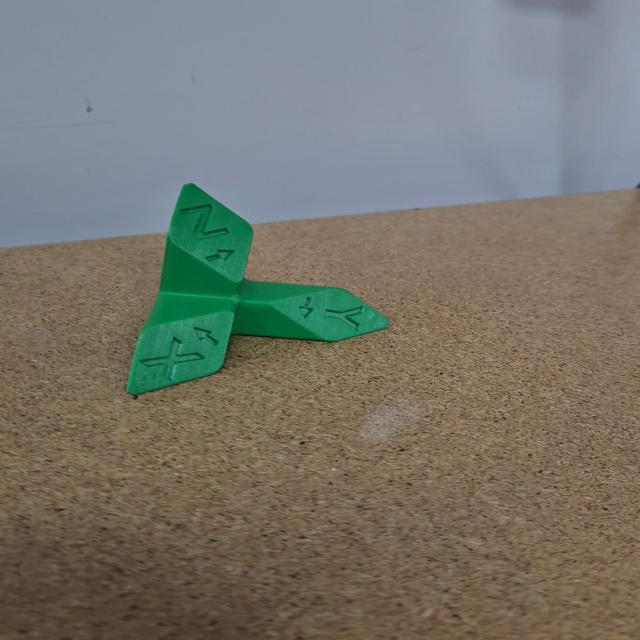objects: (120, 177, 397, 397)
